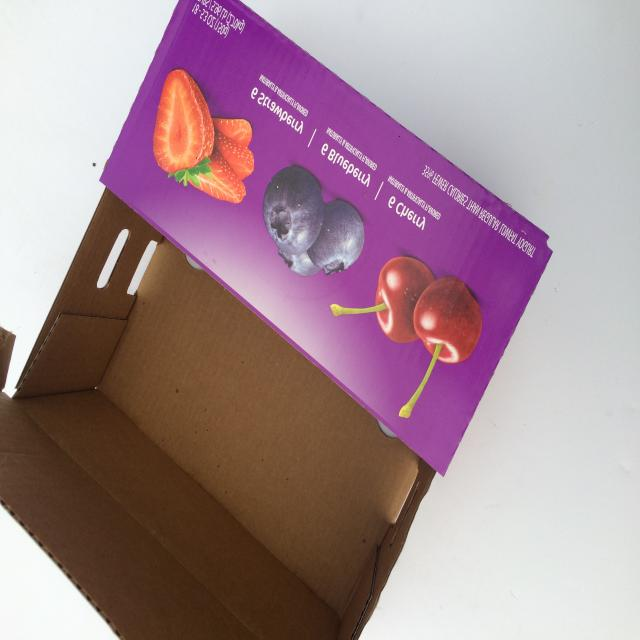cardboard: (0, 23, 571, 640)
